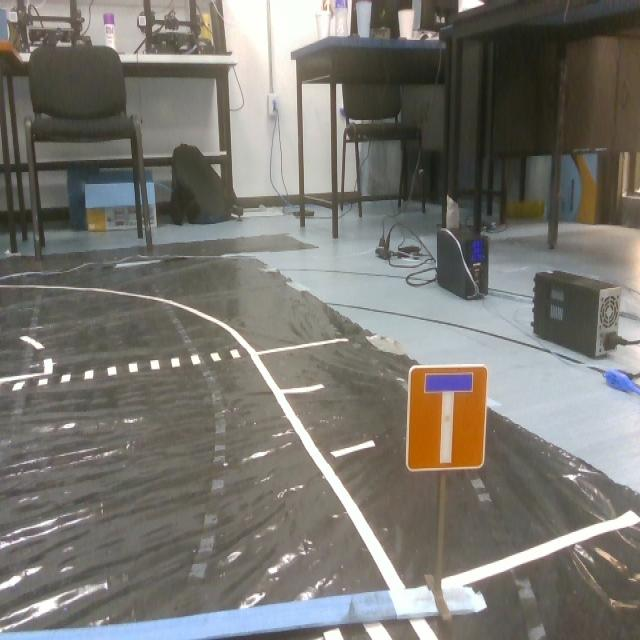stop: (406, 360, 485, 480)
